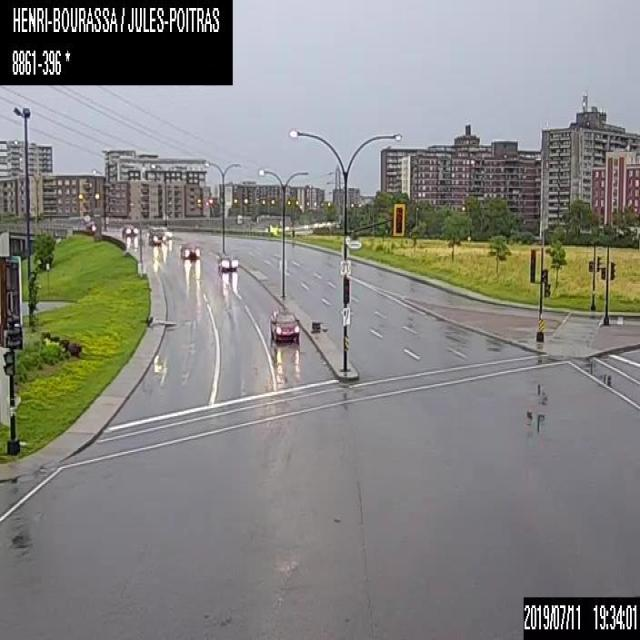vehicle: (268, 306, 299, 342), (216, 250, 238, 270), (147, 227, 166, 245), (179, 242, 199, 257), (121, 223, 138, 236), (159, 226, 172, 238)
